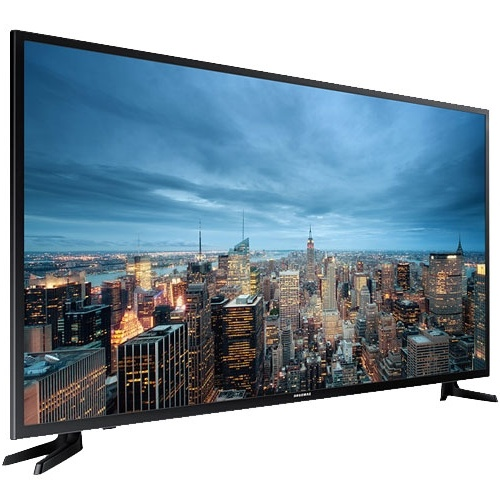SAMSUNG: (224, 334, 394, 453)
